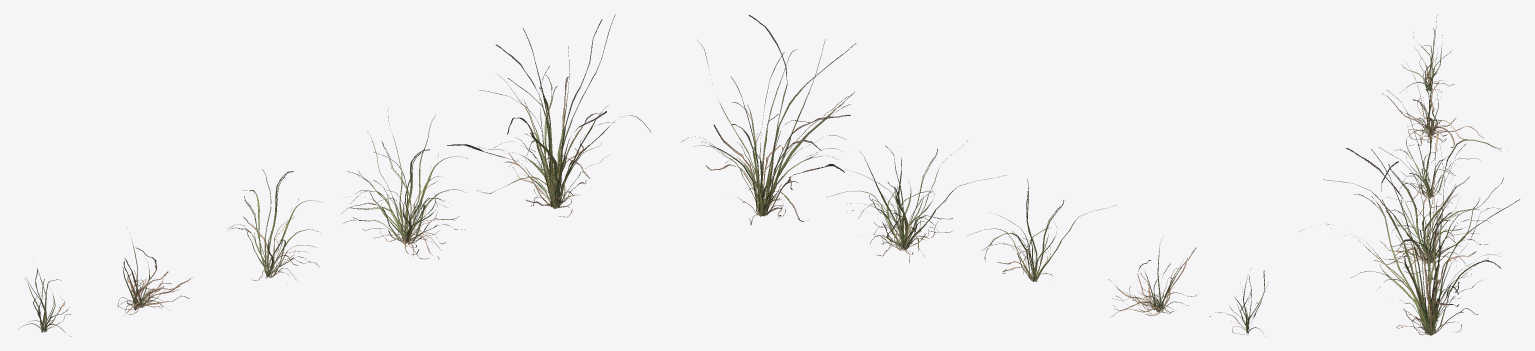
File: grass_medium_02.gltf
3 renders of one model, left to right at view 1: azimuth 30°, elevation 25°; view 2: azimuth 150°, elevation 25°; view 3: azimuth 270°, elevation 25°, orthographic. The views are drawn at different scales.
Parts seen in each view (by area): view 1: grass_medium_02_e, grass_medium_02_d, grass_medium_02_c, grass_medium_02_b, grass_medium_02_a; view 2: grass_medium_02_e, grass_medium_02_d, grass_medium_02_c, grass_medium_02_b, grass_medium_02_a; view 3: grass_medium_02_e, grass_medium_02_d, grass_medium_02_c, grass_medium_02_b, grass_medium_02_a.
Part boxes in pixels (x1,y1,x2,y2): grass_medium_02_e: (447,14,650,217); grass_medium_02_d: (341,109,467,259); grass_medium_02_c: (228,169,320,280); grass_medium_02_b: (117,238,192,315); grass_medium_02_a: (19,268,71,336); grass_medium_02_e: (681,15,856,224); grass_medium_02_d: (826,140,1006,262); grass_medium_02_c: (967,179,1115,281); grass_medium_02_b: (1108,236,1197,317); grass_medium_02_a: (1209,269,1268,334); grass_medium_02_e: (1299,144,1519,335); grass_medium_02_d: (1323,144,1503,274); grass_medium_02_c: (1387,90,1501,215); grass_medium_02_b: (1382,53,1483,151); grass_medium_02_a: (1400,15,1454,92).
Size of the model in its own units: 1.31 by 0.4053 by 0.4332.
Materials: 1 (1 with a texture image).
